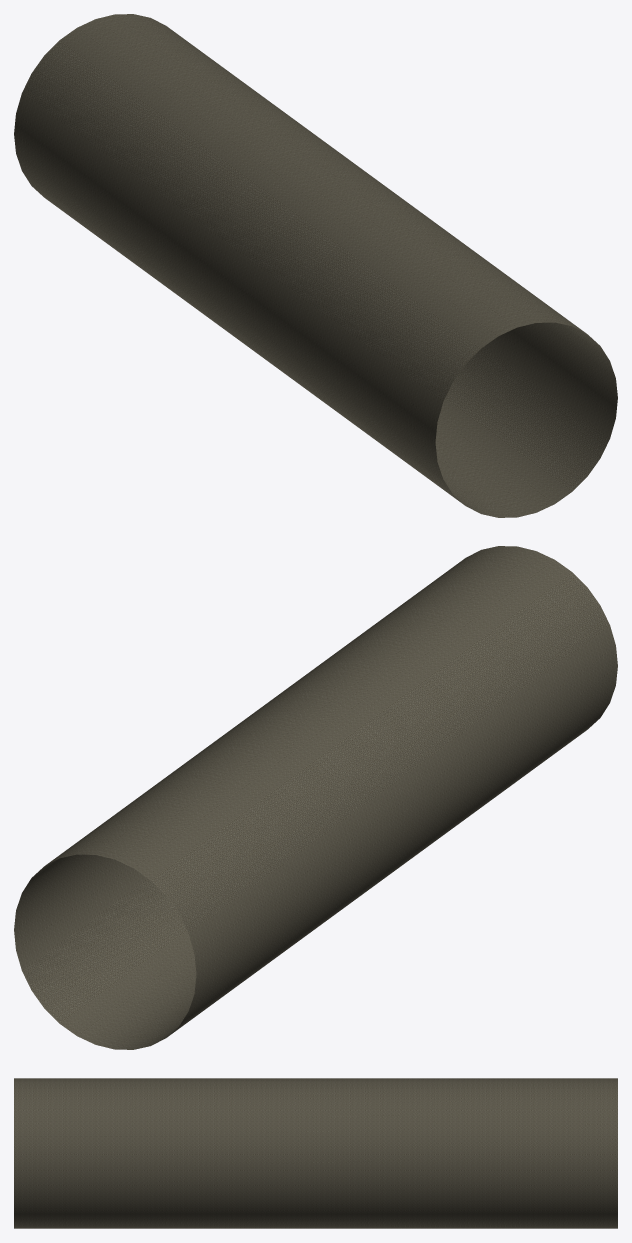
Rendered from Pipe.obj.
3 views of the same model, one above another, from view 1: azimuth 30°, elevation 25°; view 2: azimuth 150°, elevation 25°; view 3: azimuth 270°, elevation 25° (orthographic). The views are drawn at different scales.
Parts seen in each view (by area): view 1: Pipe; view 2: Pipe; view 3: Pipe.
Part boxes in pixels (box(x1,y1,x2,y2)): Pipe: box(14, 14, 617, 517); Pipe: box(14, 546, 617, 1049); Pipe: box(14, 1078, 617, 1228).
Bounding box in the file's own units: 10 × 9.95 × 40.
